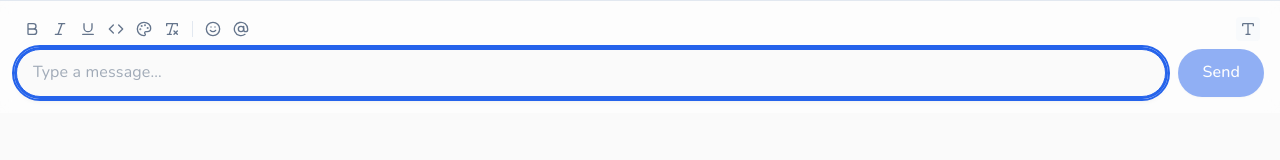
Test: InputArea command autocomplete › shows a popup of matching commands when typing a slash command
This screenshot has width=1280, height=160.
Type "/j" into the field with test id "message-input" at x=591, y=73, box [16,49,1166,97]
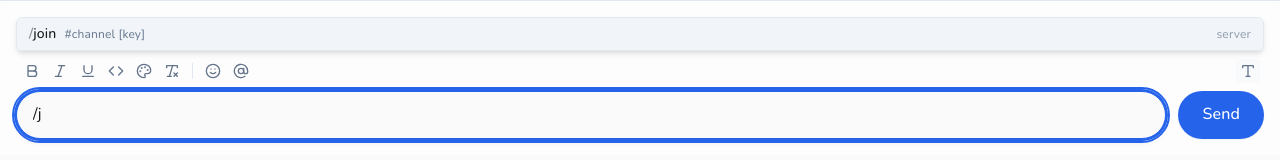
Expected: the text "join" is shown, [33,24,56,43]
